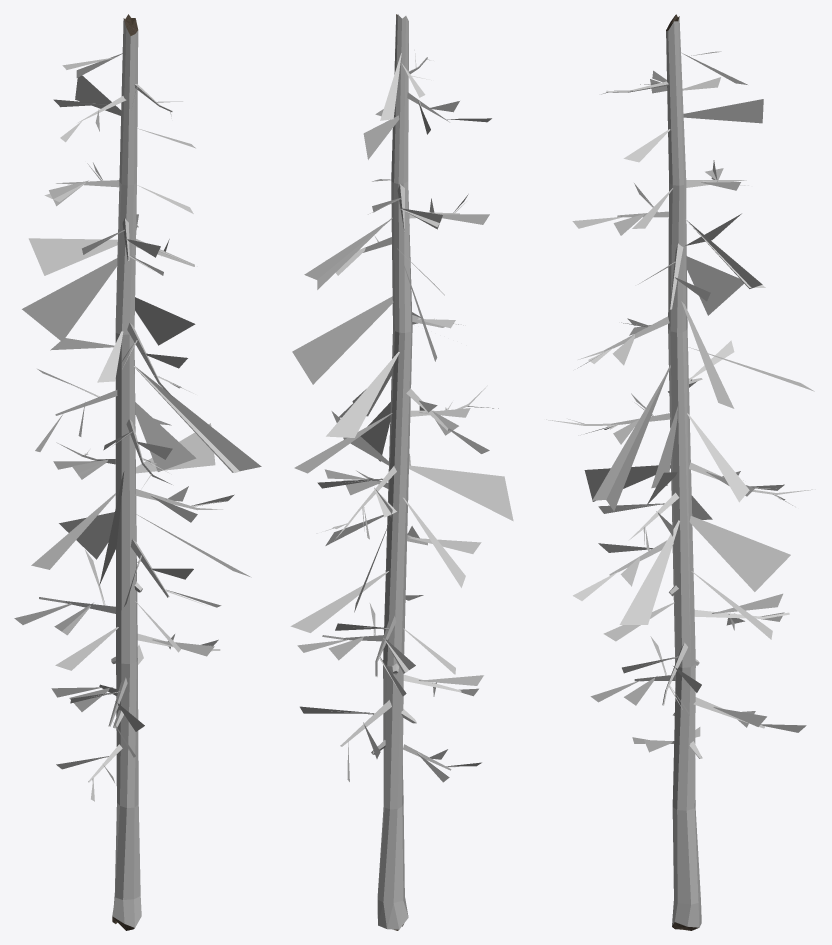
Rendered from SM_PineDead05_lod2.obj.
3 views of the same model, side by side, from view 1: azimuth 30°, elevation 25°; view 2: azimuth 150°, elevation 25°; view 3: azimuth 270°, elevation 25° (orthographic).
Visible parts, largest first — view 1: SM_PineDead05_lod2; view 2: SM_PineDead05_lod2; view 3: SM_PineDead05_lod2.
Boxes of the visible parts, x1=… form: SM_PineDead05_lod2: x1=14, y1=14, x2=261, y2=930; SM_PineDead05_lod2: x1=290, y1=14, x2=513, y2=930; SM_PineDead05_lod2: x1=546, y1=14, x2=815, y2=930.
Bounding box in the file's own units: 94.14 × 436 × 119.
